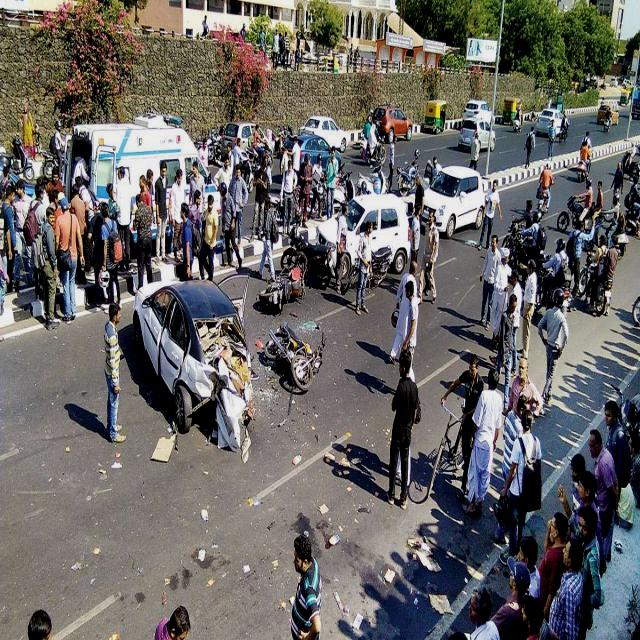accident: (132, 276, 330, 464)
non-accident: (2, 118, 216, 282), (280, 166, 490, 290), (314, 166, 483, 274), (507, 180, 628, 316), (281, 192, 421, 288), (222, 114, 350, 160), (456, 98, 496, 152), (535, 106, 571, 144)
